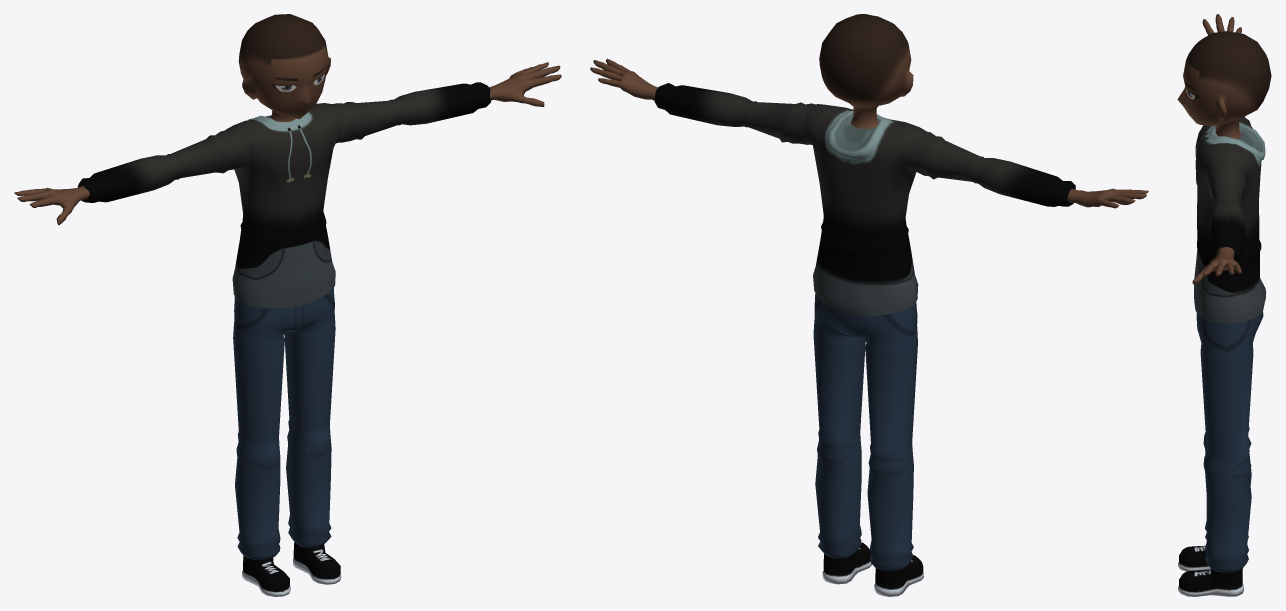
Rendered from model_Personagem2_01.fbx.
3 views of the same model, side by side, from view 1: azimuth 30°, elevation 25°; view 2: azimuth 150°, elevation 25°; view 3: azimuth 270°, elevation 25° (orthographic). The views are drawn at different scales.
Parts seen in each view (by area): view 1: camisa.005, calça.002, Mesh sem membro.004, tênis.003; view 2: camisa.005, calça.002, Mesh sem membro.004, tênis.003; view 3: calça.002, camisa.005, Mesh sem membro.004, tênis.003.
Boxes of the visible parts, x1=… form: camisa.005: x1=77, y1=82, x2=490, y2=308; calça.002: x1=233, y1=287, x2=335, y2=560; Mesh sem membro.004: x1=14, y1=14, x2=561, y2=225; tênis.003: x1=242, y1=542, x2=341, y2=596; camisa.005: x1=654, y1=83, x2=1075, y2=316; calça.002: x1=813, y1=293, x2=917, y2=570; Mesh sem membro.004: x1=590, y1=14, x2=1148, y2=208; tênis.003: x1=822, y1=542, x2=923, y2=596; calça.002: x1=1196, y1=312, x2=1263, y2=572; camisa.005: x1=1194, y1=116, x2=1266, y2=323; Mesh sem membro.004: x1=1177, y1=14, x2=1271, y2=284; tênis.003: x1=1178, y1=545, x2=1243, y2=596.
Size of the model in its own units: 915 by 893 by 140.
